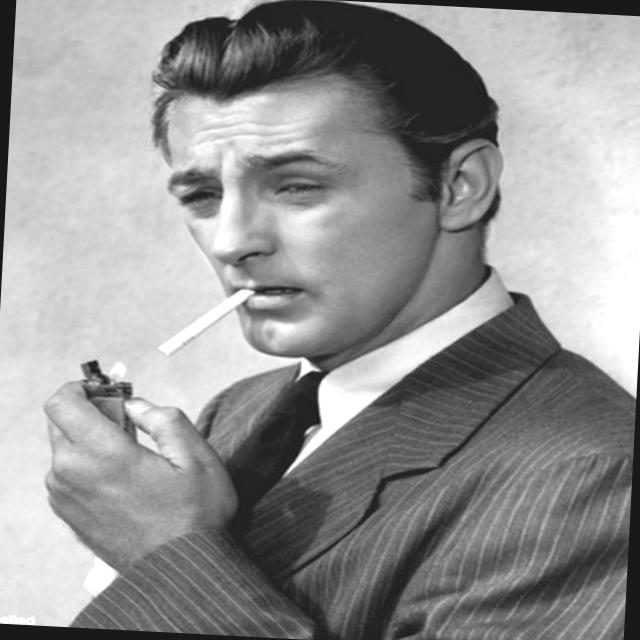cigarette: (154, 284, 259, 364)
